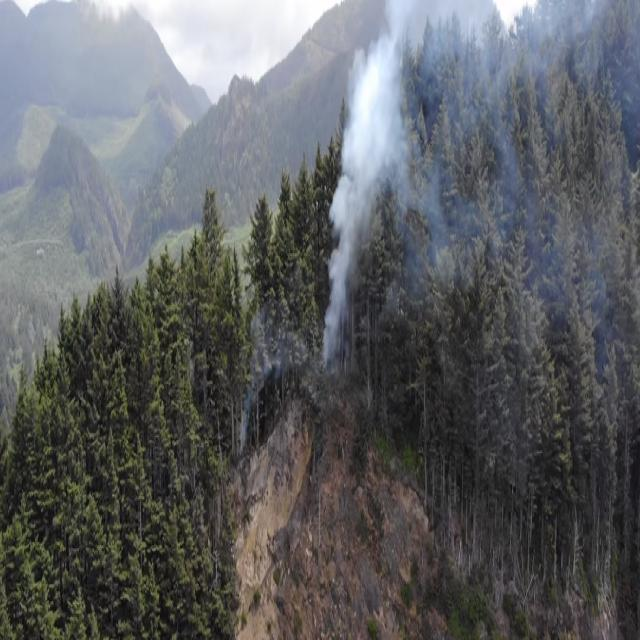Smoke: (237, 0, 640, 456)
